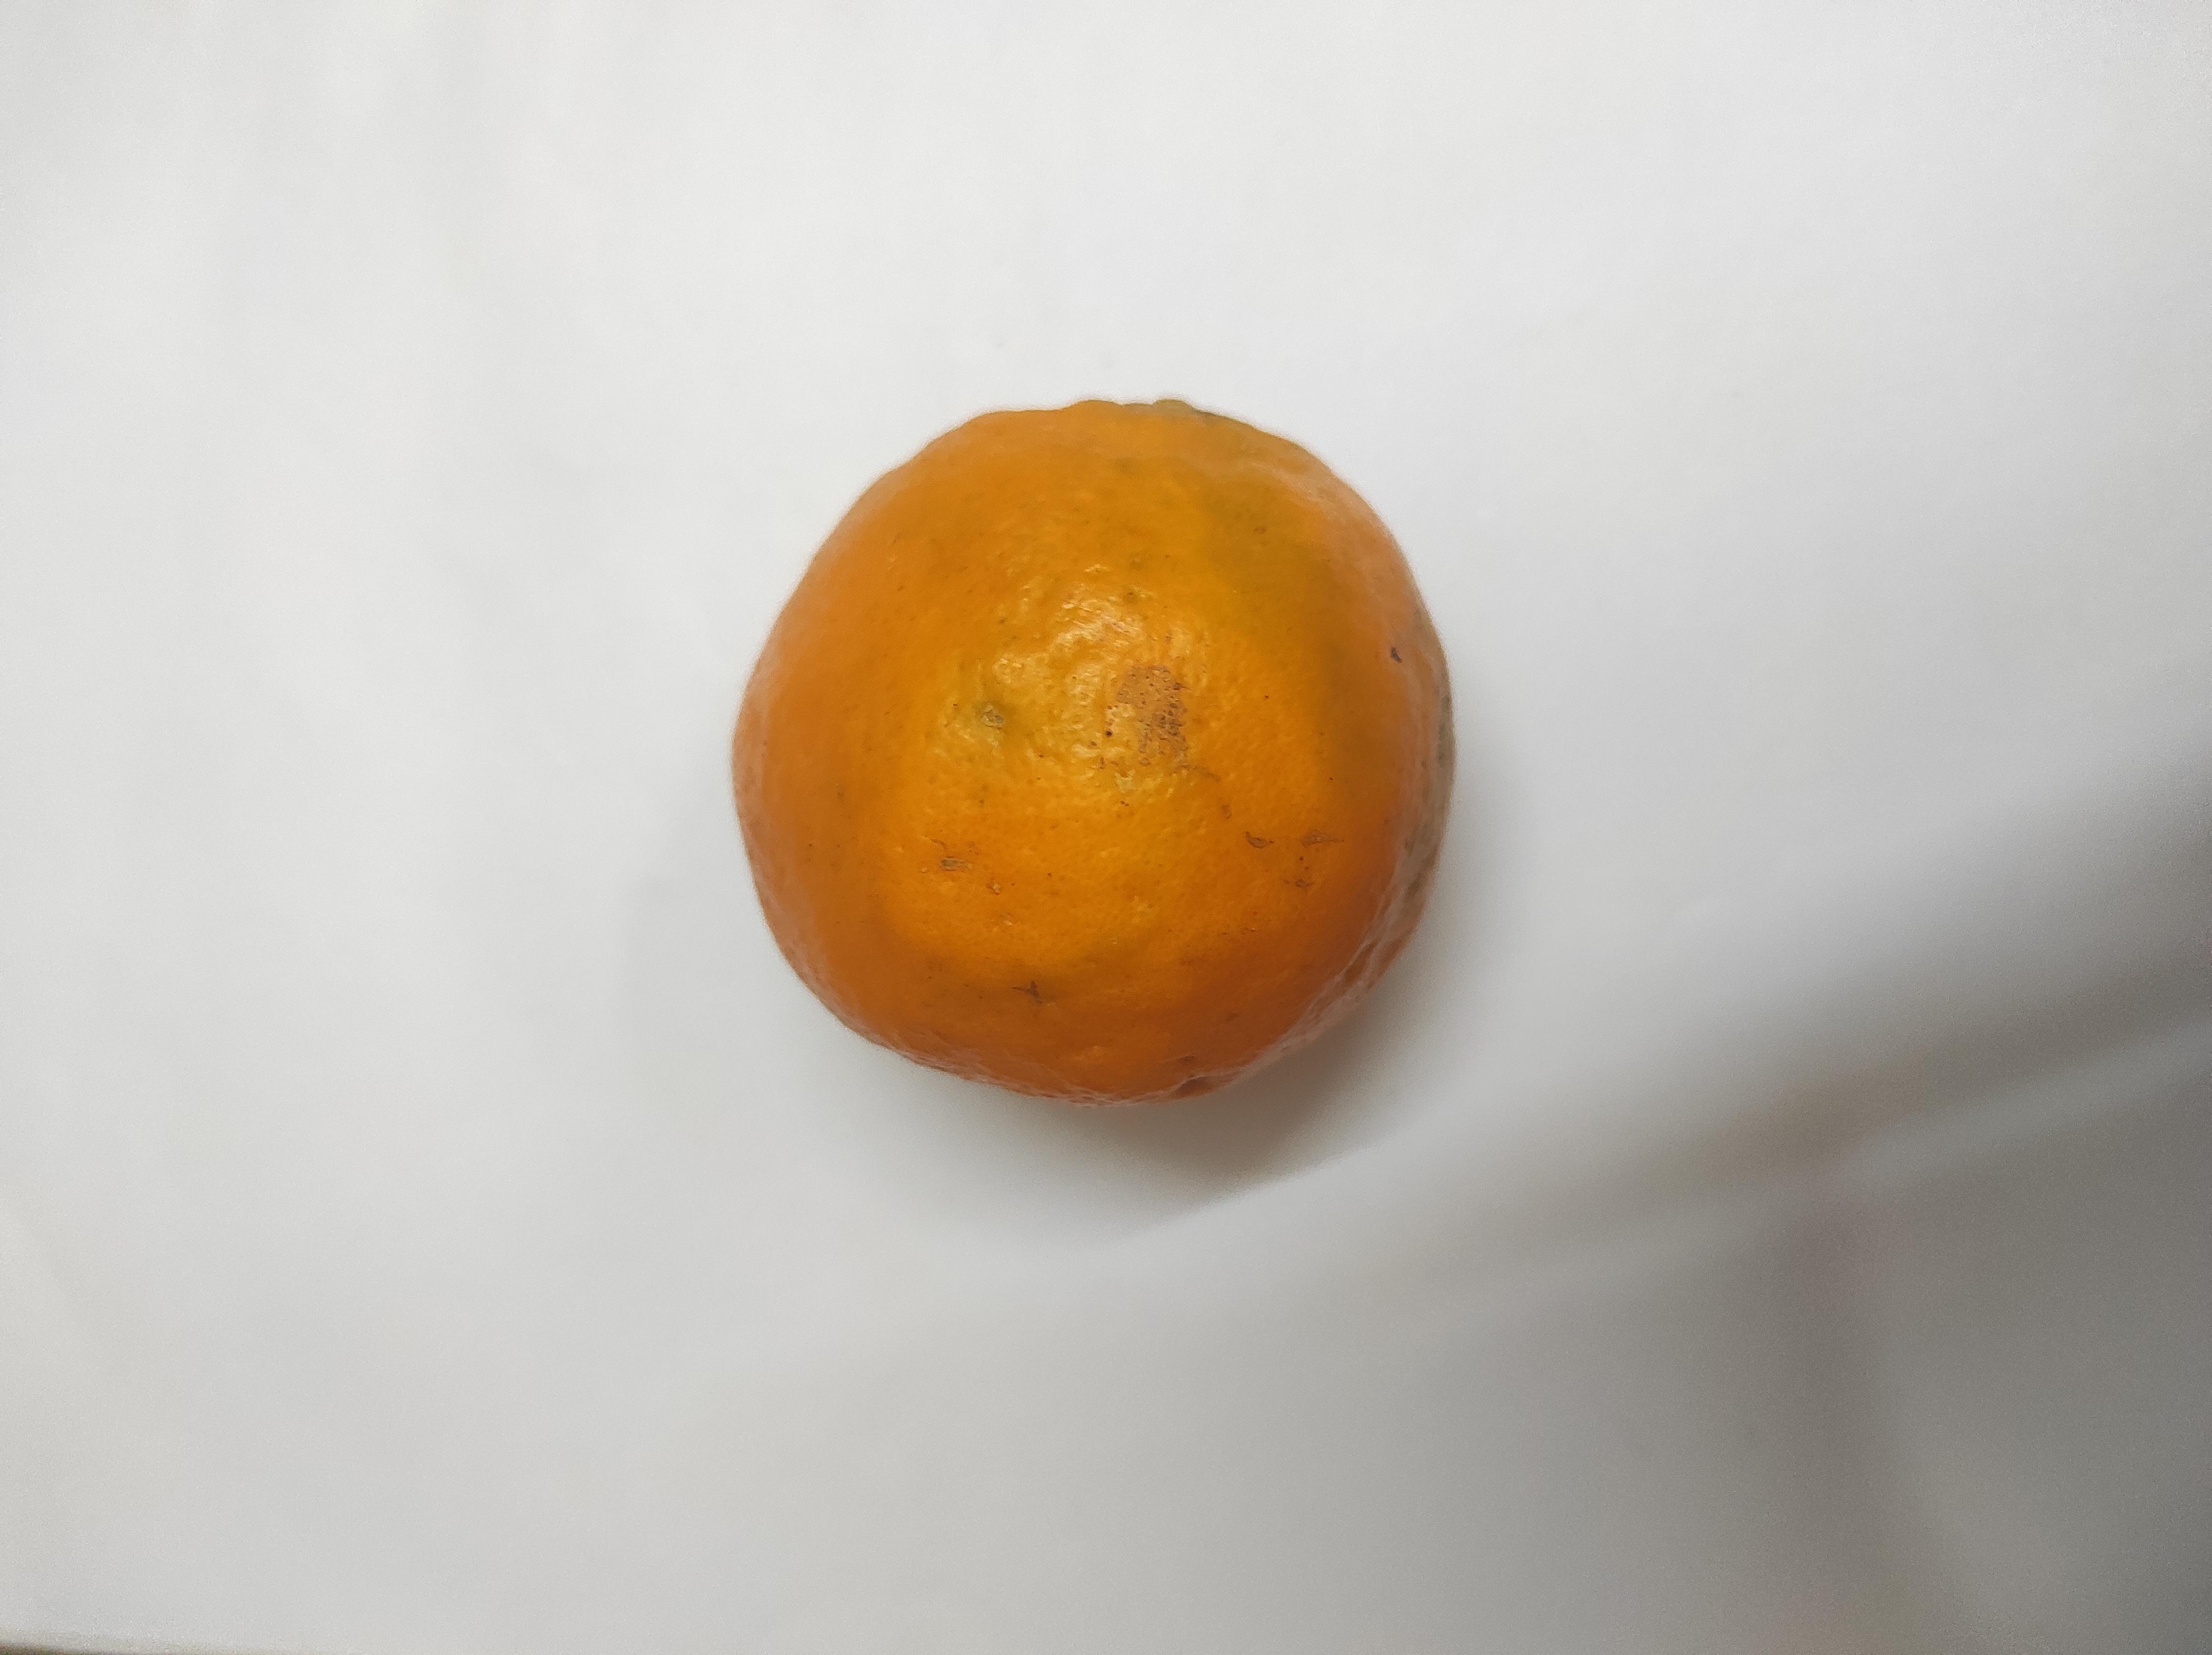Ripe: (729, 400, 1464, 1092)
